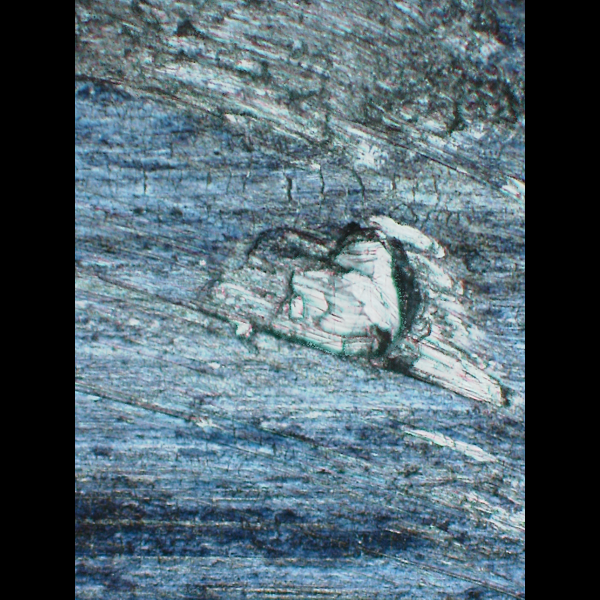d: (189, 197, 518, 414)
